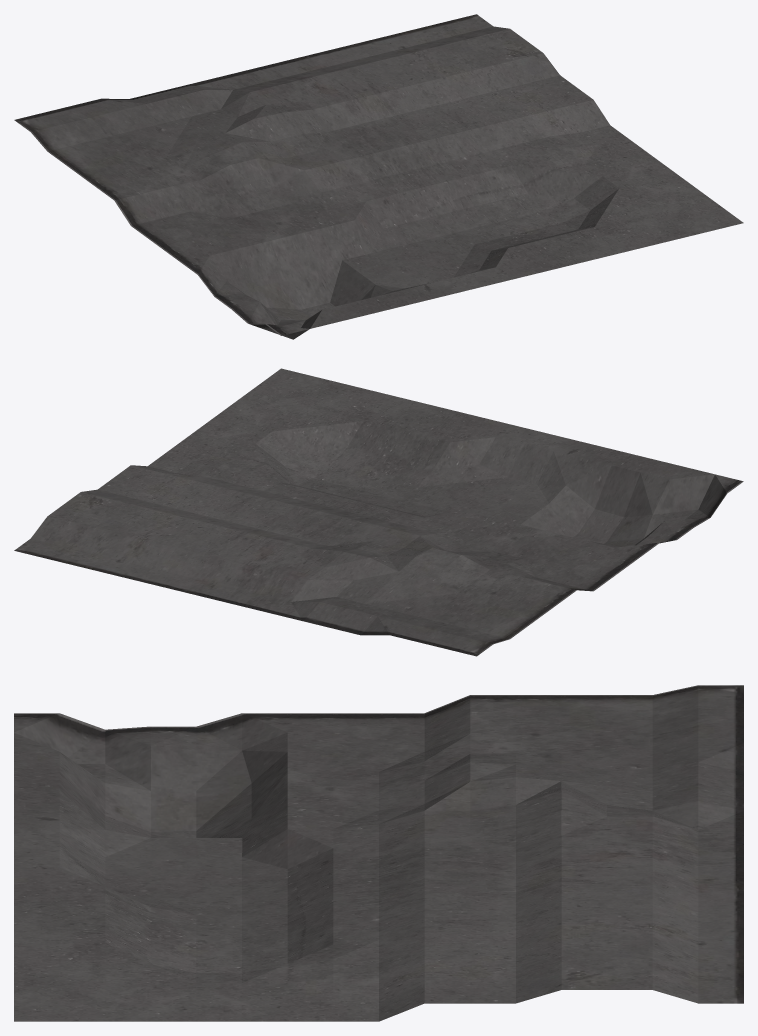
File: map2.obj
3 views of the same model, one above another, from view 1: azimuth 30°, elevation 25°; view 2: azimuth 150°, elevation 25°; view 3: azimuth 270°, elevation 25° (orthographic). The views are drawn at different scales.
Visible parts, largest first — view 1: Plane; view 2: Plane; view 3: Plane.
Boxes of the visible parts, <box> form: Plane: <box>14,14,743,339</box>; Plane: <box>14,368,743,656</box>; Plane: <box>14,685,743,1021</box>.
Bounding box in the file's own units: 115 × 17.37 × 115.
